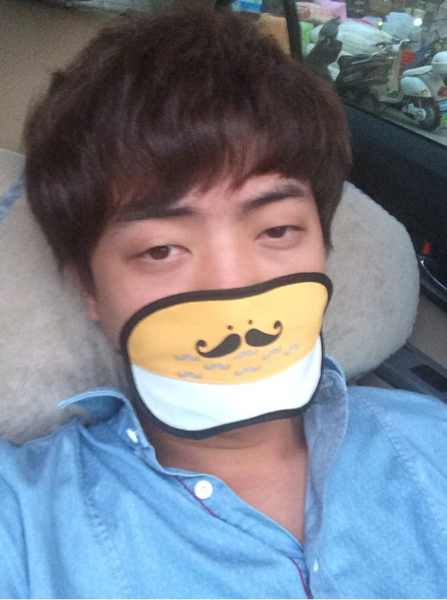face_mask: (115, 118, 328, 437)
